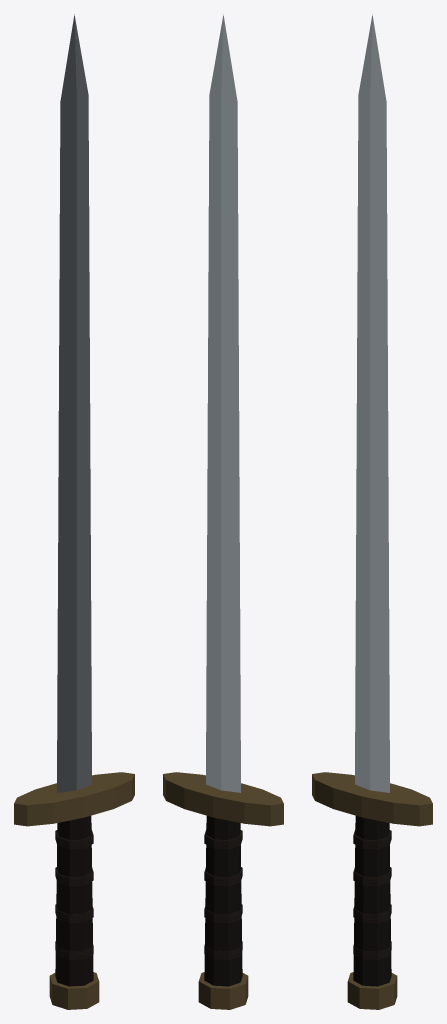
The model's file is doho_sword.glb.
3 renders of one model, left to right at view 1: azimuth 30°, elevation 25°; view 2: azimuth 150°, elevation 25°; view 3: azimuth 330°, elevation 25°, orthographic.
Parts seen in each view (by area): view 1: CandidateMesh; view 2: CandidateMesh; view 3: CandidateMesh.
Part boxes in pixels (left/top/right/bottom): CandidateMesh: left=14, top=14, right=134, bottom=1009; CandidateMesh: left=163, top=14, right=283, bottom=1009; CandidateMesh: left=312, top=14, right=432, bottom=1009.
Bounding box in the file's own units: 0.12 × 0.935 × 0.044.
Materials: 4 (1 with a texture image).
